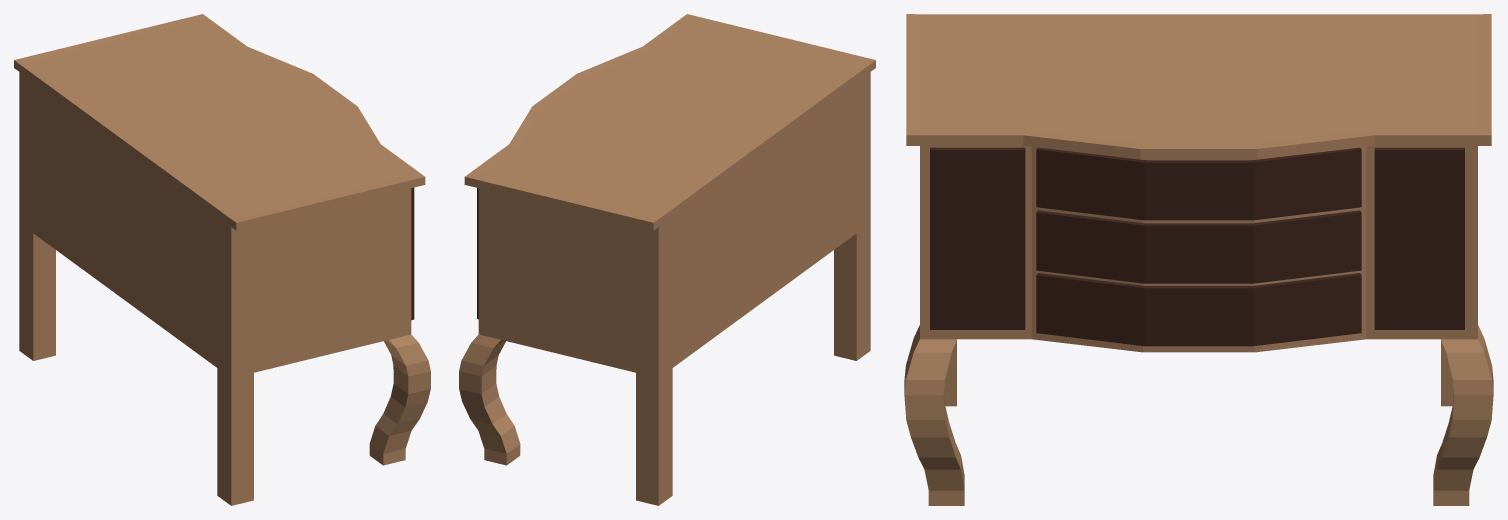
File: Cabinet.fbx
3 renders of one model, left to right at view 1: azimuth 30°, elevation 25°; view 2: azimuth 150°, elevation 25°; view 3: azimuth 270°, elevation 25°, orthographic. The views are drawn at different scales.
Parts seen in each view (by area): view 1: Cabinet; view 2: Cabinet; view 3: Cabinet.
Part boxes in pixels (<box>): Cabinet: <box>14,14,430,505</box>; Cabinet: <box>459,14,875,505</box>; Cabinet: <box>904,14,1493,505</box>.
Bounding box in the file's own units: 114 × 149 × 211.
